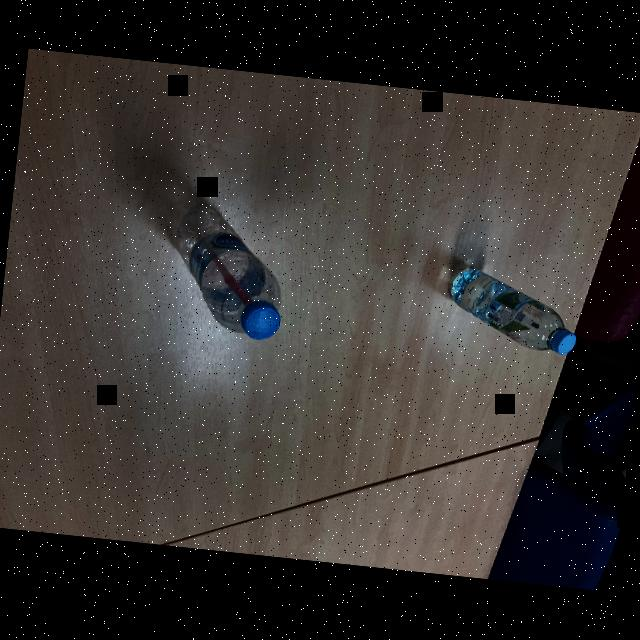plastic_bottle: (163, 201, 292, 339), (440, 264, 582, 356)
plastic_bottle_cap: (240, 300, 281, 340), (546, 328, 576, 356)
